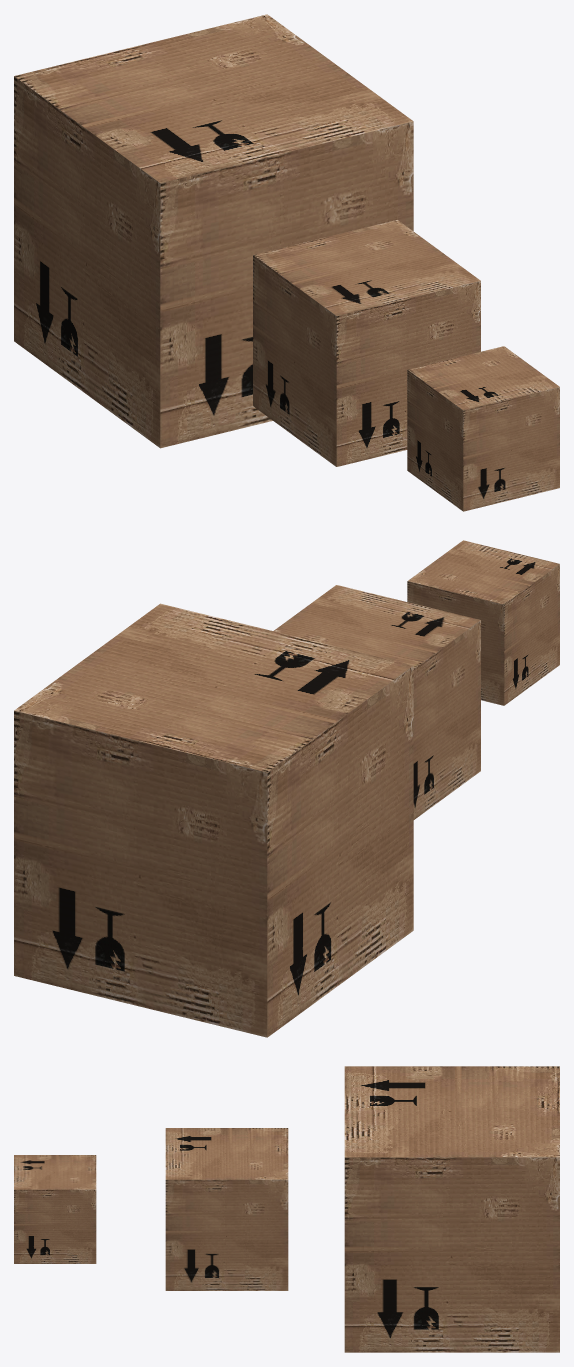
Rendered from cube_staple.obj.
3 views of the same model, one above another, from view 1: azimuth 30°, elevation 25°; view 2: azimuth 150°, elevation 25°; view 3: azimuth 270°, elevation 25° (orthographic). The views are drawn at different scales.
Visible parts, largest first — view 1: Box001, Box003, Box005; view 2: Box001, Box003, Box005; view 3: Box001, Box003, Box005.
Part boxes in pixels (x1,y1,x2,y2): Box001: (14, 14, 413, 448); Box003: (253, 220, 480, 466); Box005: (407, 346, 559, 511); Box001: (14, 603, 413, 1037); Box003: (273, 585, 480, 819); Box005: (407, 540, 559, 705); Box001: (344, 1066, 559, 1352); Box003: (165, 1128, 288, 1290); Box005: (14, 1155, 96, 1263).
Bounding box in the file's own units: 10 × 10 × 25.36.
